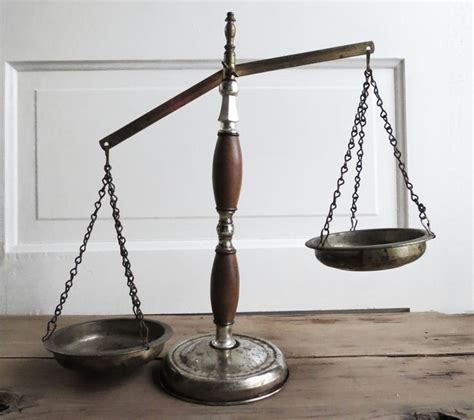Industrial Scale: (39, 11, 436, 405)
